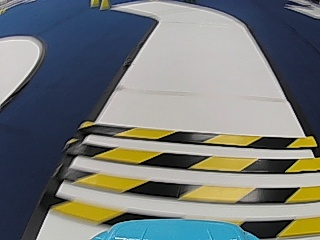bump: (93, 123, 308, 220)
